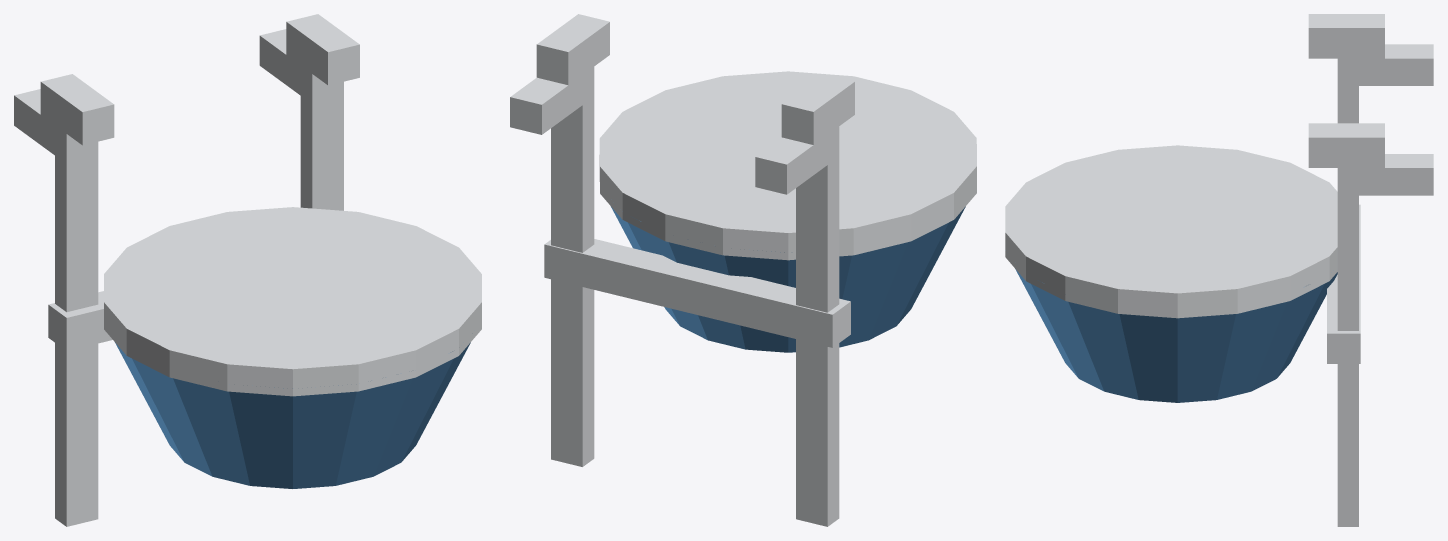
File: boarding-kennels-and-cattery-boarding-kennels-and-catt-c6ee200b__35539.glb
The picture shows the model from 3 angles, left to right: view 1: azimuth 30°, elevation 25°; view 2: azimuth 150°, elevation 25°; view 3: azimuth 270°, elevation 25°; orthographic projection. The views are drawn at different scales.
Parts seen in each view (by area): view 1: boarding-kennels-and-cattery-water-bowl-bracket; view 2: boarding-kennels-and-cattery-water-bowl-bracket; view 3: boarding-kennels-and-cattery-water-bowl-bracket.
Boxes of the visible parts, x1,y1,x2,y2 form: boarding-kennels-and-cattery-water-bowl-bracket: (14,14,481,526); boarding-kennels-and-cattery-water-bowl-bracket: (510,14,976,526); boarding-kennels-and-cattery-water-bowl-bracket: (1005,14,1433,526).
Bounding box in the file's own units: 0.23 × 0.282 × 0.2813.
